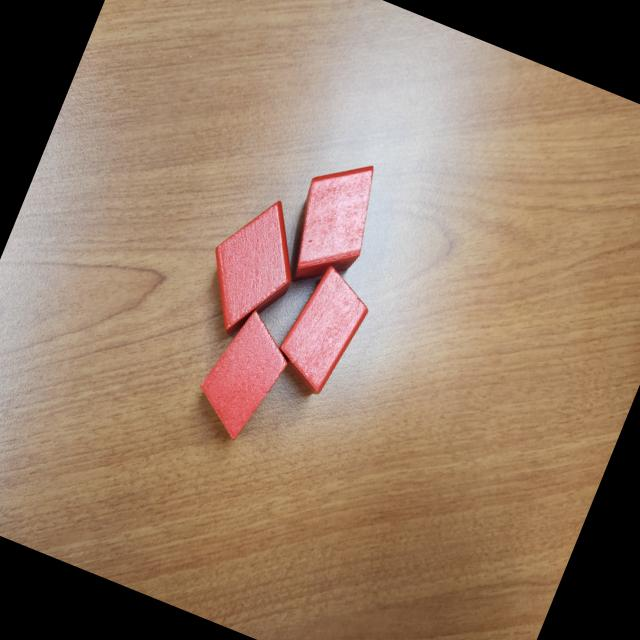red: (182, 182, 318, 352), (274, 144, 394, 299), (182, 299, 302, 451), (266, 257, 380, 403)
